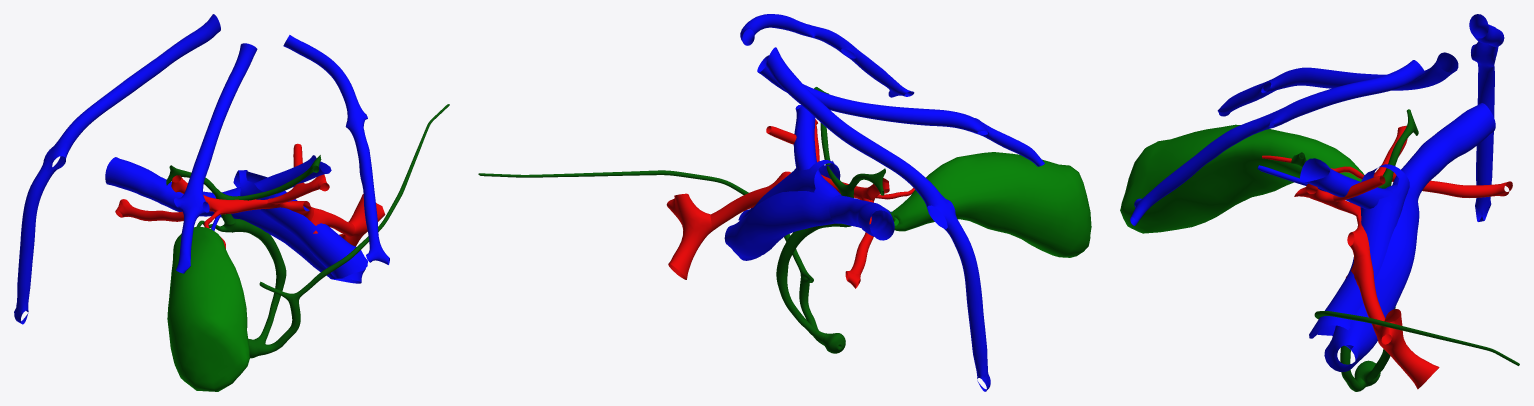
File: VH_M_Liver_Landmarks.fbx
3 views of the same model, side by side, from view 1: azimuth 30°, elevation 25°; view 2: azimuth 150°, elevation 25°; view 3: azimuth 270°, elevation 25° (orthographic). The views are drawn at different scales.
Parts seen in each view (by area): view 1: VH_M_liver_landmark_veins_of_liver, VH_M_liver_landmark_gallbladder, VH_M_liver_landmark_biliary_tree, VH_M_liver_landmark_arteries_of_liver; view 2: VH_M_liver_landmark_veins_of_liver, VH_M_liver_landmark_gallbladder, VH_M_liver_landmark_biliary_tree, VH_M_liver_landmark_arteries_of_liver; view 3: VH_M_liver_landmark_veins_of_liver, VH_M_liver_landmark_gallbladder, VH_M_liver_landmark_arteries_of_liver, VH_M_liver_landmark_biliary_tree.
Part boxes in pixels (x1,y1,x2,y2): VH_M_liver_landmark_veins_of_liver: (14,14,389,324); VH_M_liver_landmark_gallbladder: (167,227,249,391); VH_M_liver_landmark_biliary_tree: (166,104,449,358); VH_M_liver_landmark_arteries_of_liver: (115,143,385,246); VH_M_liver_landmark_veins_of_liver: (724,14,1044,391); VH_M_liver_landmark_gallbladder: (891,152,1091,257); VH_M_liver_landmark_biliary_tree: (478,87,895,353); VH_M_liver_landmark_arteries_of_liver: (666,119,889,288); VH_M_liver_landmark_veins_of_liver: (1130,14,1504,371); VH_M_liver_landmark_gallbladder: (1120,124,1364,233); VH_M_liver_landmark_arteries_of_liver: (1294,125,1512,389); VH_M_liver_landmark_biliary_tree: (1291,109,1519,391).
Size of the model in its own units: 18.36 by 12.03 by 11.56.
